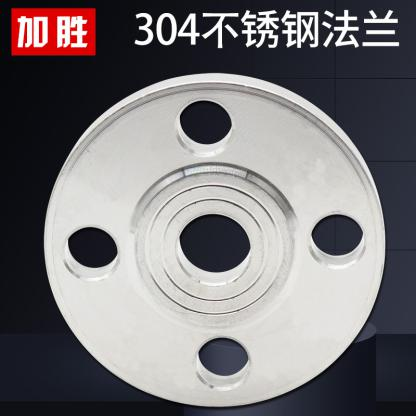FOD: (39, 70, 395, 409)
